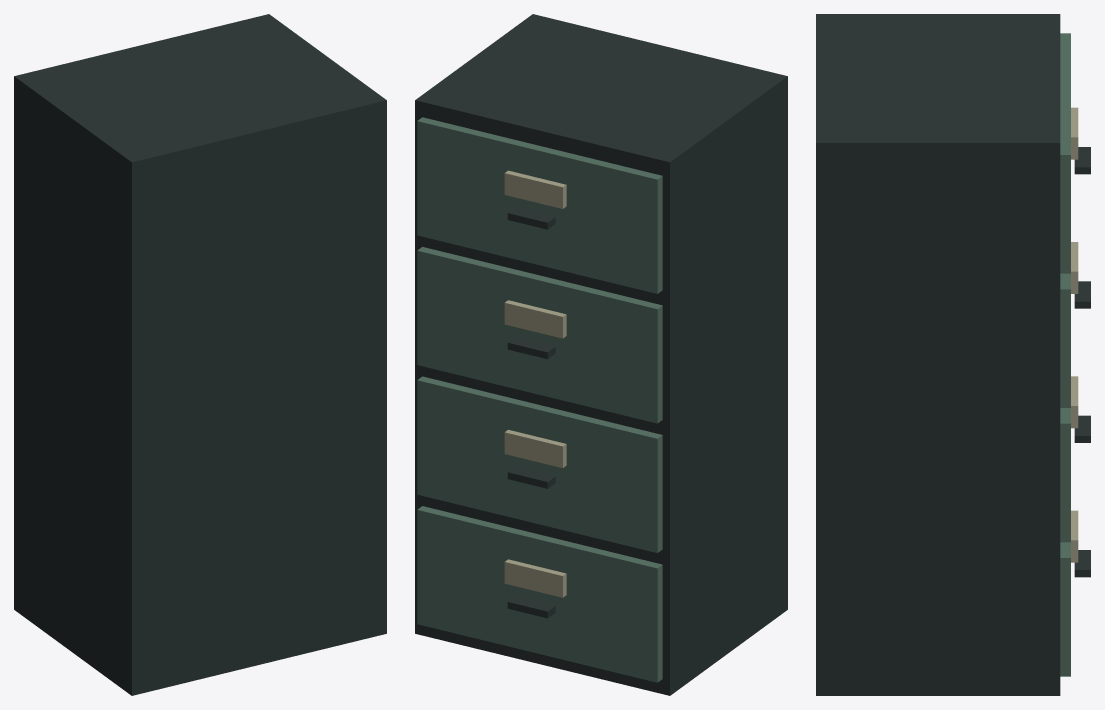
File: filing_cabinet.glb
The picture shows the model from 3 angles, left to right: view 1: azimuth 30°, elevation 25°; view 2: azimuth 150°, elevation 25°; view 3: azimuth 270°, elevation 25°; orthographic projection. The views are drawn at different scales.
Parts seen in each view (by area): view 1: filing_cabinet; view 2: filing_cabinet; view 3: filing_cabinet.
Boxes of the visible parts, box(x1,y1,x2,y2) form: filing_cabinet: box(14, 14, 386, 695); filing_cabinet: box(415, 14, 787, 695); filing_cabinet: box(816, 14, 1090, 695).
Size of the model in its own units: 0.7 by 1.4 by 0.6305.
